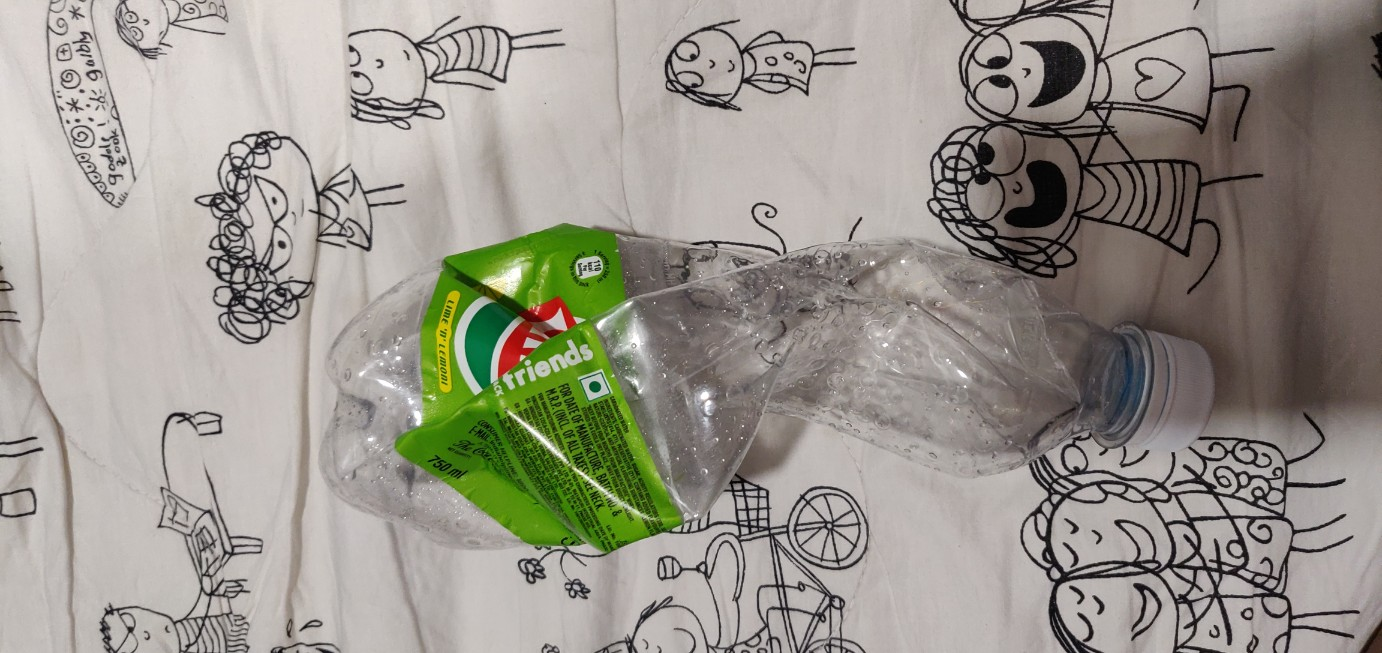Electronics: (274, 181, 1281, 576)
